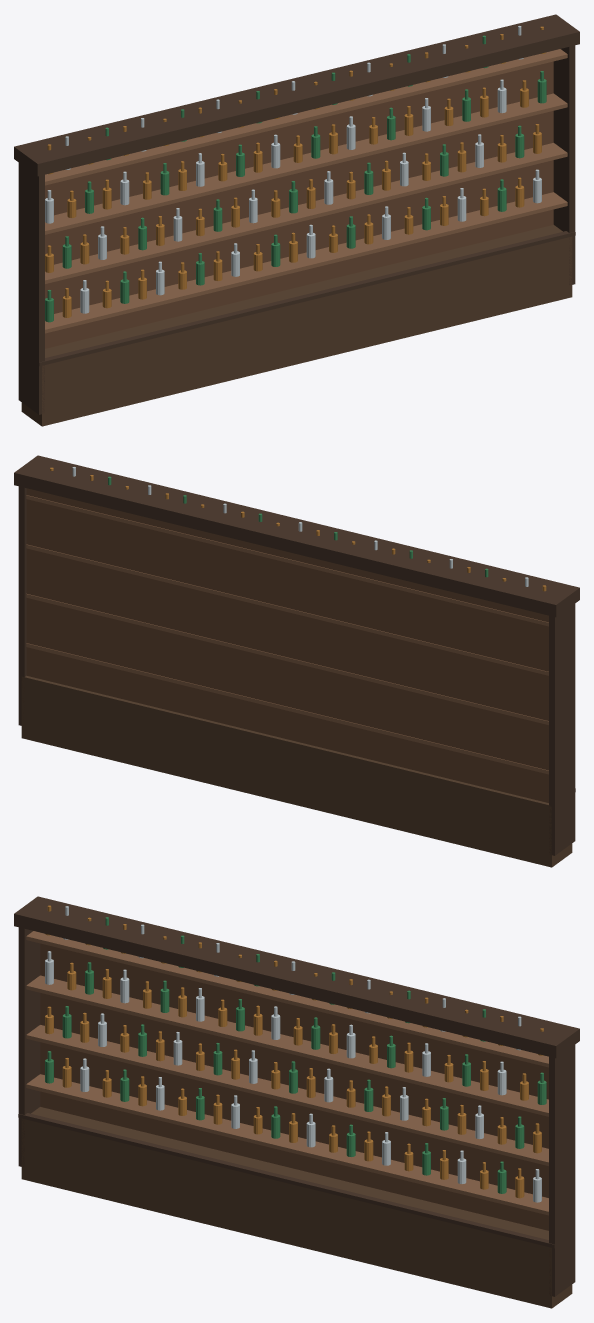
Rendered from BottleShelf.fbx.
The picture shows the model from 3 angles, top to bottom: view 1: azimuth 30°, elevation 25°; view 2: azimuth 150°, elevation 25°; view 3: azimuth 330°, elevation 25°; orthographic projection.
Parts seen in each view (by area): view 1: BottleShelf; view 2: BottleShelf; view 3: BottleShelf.
Boxes of the visible parts, box(x1,y1,x2,y2) form: BottleShelf: box(14, 14, 579, 426); BottleShelf: box(14, 455, 579, 867); BottleShelf: box(14, 896, 579, 1308).
Bounding box in the file's own units: 9.2 × 4.43 × 0.7.
